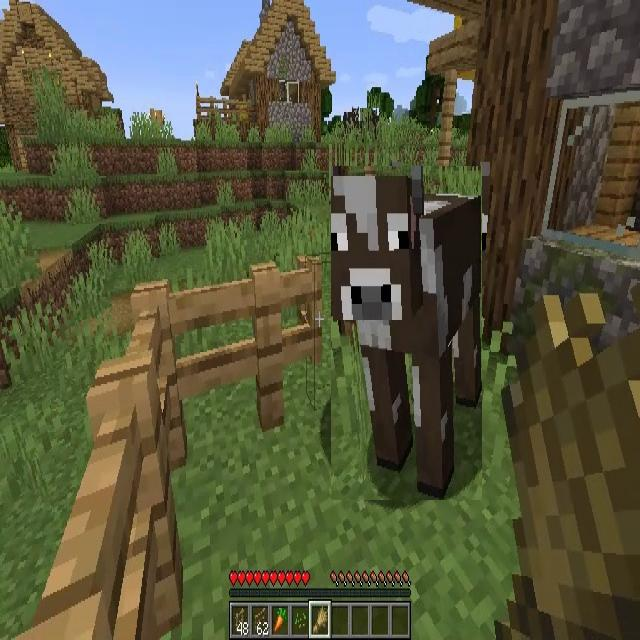cow: (331, 166, 482, 500), (360, 108, 379, 139), (344, 105, 359, 134)
